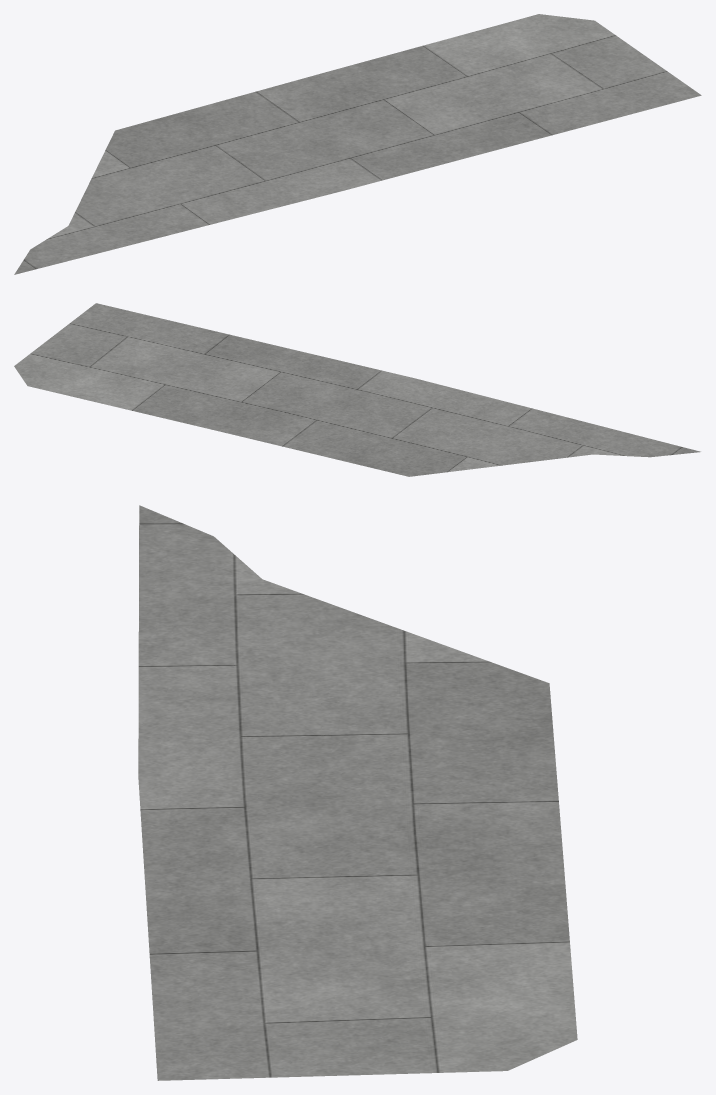
Rendered from plaza_03.glb.
3 views of the same model, one above another, from view 1: azimuth 30°, elevation 25°; view 2: azimuth 150°, elevation 25°; view 3: azimuth 270°, elevation 25° (orthographic). The views are drawn at different scales.
Parts seen in each view (by area): view 1: plaza_03.surface; view 2: plaza_03.surface; view 3: plaza_03.surface.
Part boxes in pixels (bbox=[...]): plaza_03.surface: bbox=[14, 14, 701, 274]; plaza_03.surface: bbox=[14, 303, 700, 476]; plaza_03.surface: bbox=[138, 505, 577, 1080].
Size of the model in its own units: 4.97 by 0.0655 by 1.57.
1 material, 1 textured.
